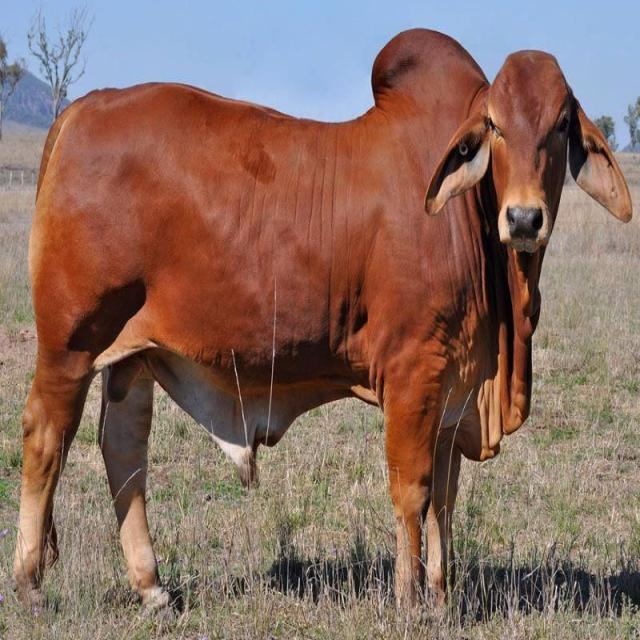cowFace: (418, 27, 636, 292)
